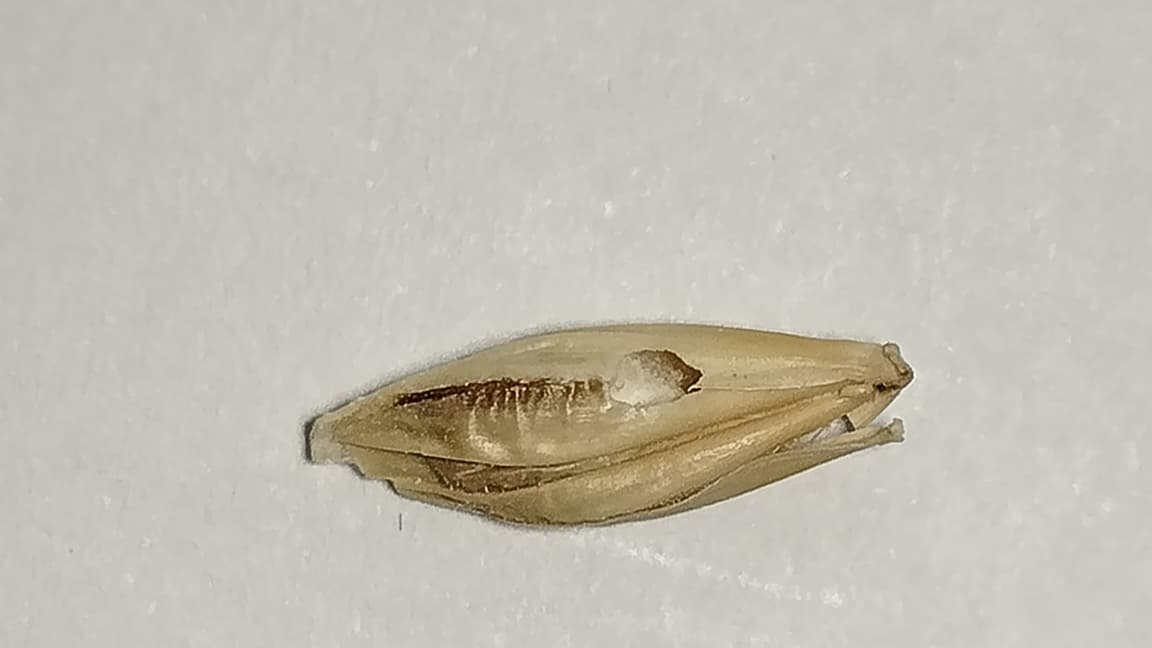damage: (309, 325, 911, 523)
insectdamage: (605, 348, 705, 406)
staindamage: (394, 377, 603, 463)
